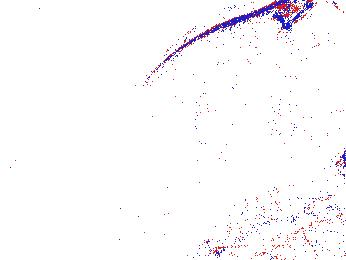glassfish: (114, 1, 319, 109)
siberian prawn: (202, 212, 332, 260)
